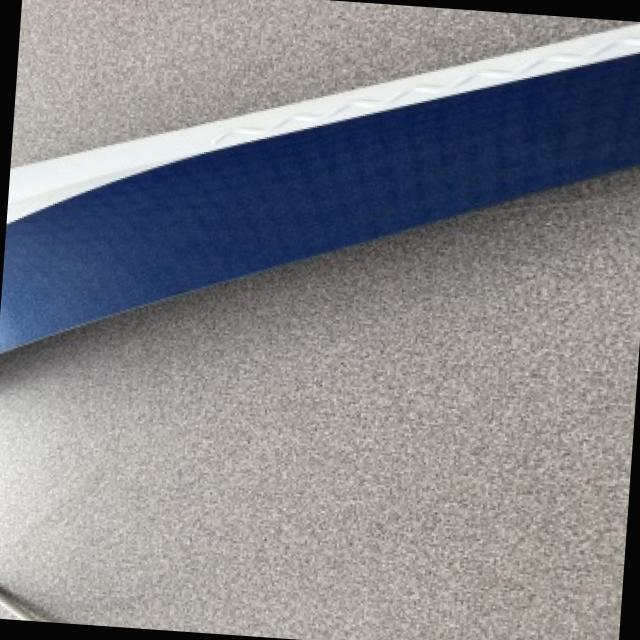healthy: (0, 165, 640, 640), (12, 0, 630, 162)
